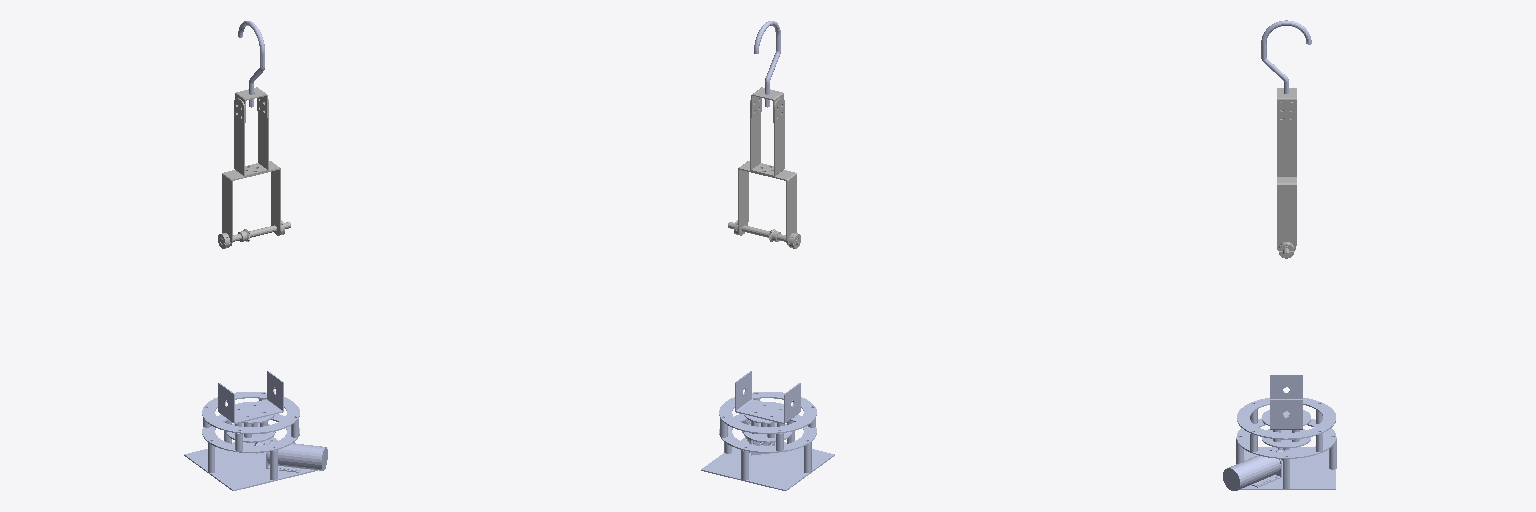
The robot description file, URDF, robot "Arm_Final_Planet_hook":
<?xml version="1.0" encoding="utf-8"?>
<!-- This URDF was automatically created by SolidWorks to URDF Exporter! Originally created by [author] ([email redacted]) 
     Commit Version: 1.6.0-1-g15f4949  Build Version: 1.6.7594.29634
     For more information, please see http://wiki.ros.org/sw_urdf_exporter -->
<robot
  name="Arm_Final_Planet_hook">
  <link
    name="base_link">
    <inertial>
      <origin
        xyz="0.0239862312973585 -0.0239843062662296 0.0273877677030368"
        rpy="0 0 0" />
      <mass
        value="0.209863707536" />
      <inertia
        ixx="0.000201299817757715"
        ixy="2.58045330925731E-05"
        ixz="5.59736469617358E-07"
        iyy="0.000201276668092483"
        iyz="-5.59702706110268E-07"
        izz="0.000375387283780294" />
    </inertial>
    <visual>
      <origin
        xyz="0 0 0"
        rpy="0 0 0" />
      <geometry>
        <mesh
          filename="package://Arm_Final_Planet_hook/meshes/base_link.STL" />
      </geometry>
      <material
        name="">
        <color
          rgba="0.792156862745098 0.819607843137255 0.933333333333333 1" />
      </material>
    </visual>
    <collision>
      <origin
        xyz="0 0 0"
        rpy="0 0 0" />
      <geometry>
        <mesh
          filename="package://Arm_Final_Planet_hook/meshes/base_link.STL" />
      </geometry>
    </collision>
  </link>
  <link
    name="link_1">
    <inertial>
      <origin
        xyz="0.000226515984953664 -0.000226515984954184 0.0808458318834426"
        rpy="0 0 0" />
      <mass
        value="0.0467442653932144" />
      <inertia
        ixx="1.55829074302615E-05"
        ixy="-3.03322735015364E-10"
        ixz="-1.25218898458056E-20"
        iyy="3.45644528570318E-05"
        iyz="-8.9999841994293E-21"
        izz="3.90753255796196E-05" />
    </inertial>
    <visual>
      <origin
        xyz="0 0 0"
        rpy="0 0 0" />
      <geometry>
        <mesh
          filename="package://Arm_Final_Planet_hook/meshes/link_1.STL" />
      </geometry>
      <material
        name="">
        <color
          rgba="0.792156862745098 0.819607843137255 0.933333333333333 1" />
      </material>
    </visual>
    <collision>
      <origin
        xyz="0 0 0"
        rpy="0 0 0" />
      <geometry>
        <mesh
          filename="package://Arm_Final_Planet_hook/meshes/link_1.STL" />
      </geometry>
    </collision>
  </link>
  <joint
    name="joint_1"
    type="revolute">
    <origin
      xyz="0 0 0"
      rpy="0 0 0" />
    <parent
      link="base_link" />
    <child
      link="link_1" />
    <axis
      xyz="0 0 1" />
    <limit
      lower="-9000"
      upper="9000"
      effort="0"
      velocity="0" />
    <dynamics
      damping="0"
      friction="0" />
  </joint>
  <link
    name="link_2">
    <inertial>
      <origin
        xyz="0.127388632386799 -1.84215886989136E-09 0.00236974202190602"
        rpy="0 0 0" />
      <mass
        value="0.292295046771137" />
      <inertia
        ixx="8.03288176612902E-05"
        ixy="-1.85198693888772E-07"
        ixz="8.26838164853407E-10"
        iyy="0.000301533110653255"
        iyz="-1.25470650914005E-12"
        izz="0.000272457706804751" />
    </inertial>
    <visual>
      <origin
        xyz="0 0 0"
        rpy="0 0 0" />
      <geometry>
        <mesh
          filename="package://Arm_Final_Planet_hook/meshes/link_2.STL" />
      </geometry>
      <material
        name="">
        <color
          rgba="0.956862745098039 0.956862745098039 0.956862745098039 1" />
      </material>
    </visual>
    <collision>
      <origin
        xyz="0 0 0"
        rpy="0 0 0" />
      <geometry>
        <mesh
          filename="package://Arm_Final_Planet_hook/meshes/link_2.STL" />
      </geometry>
    </collision>
  </link>
  <joint
    name="joint_2"
    type="revolute">
    <origin
      xyz="0.000728149715460716 -0.000228149715460702 0.110999999999998"
      rpy="0 -1.5707963267949 0" />
    <parent
      link="link_1" />
    <child
      link="link_2" />
    <axis
      xyz="0 0 1" />
      <!-- xyz="0 0 -1" /> -->
      
    <limit
      lower="-9000"
      upper="9000"
      effort="0"
      velocity="0" />
    <dynamics
      damping="0"
      friction="0" />
  </joint>
  <link
    name="link_3">
    <inertial>
      <origin
        xyz="0.0911301106082873 -8.27425586380492E-09 -0.00117041616253912"
        rpy="0 0 0" />
      <mass
        value="0.0581573780278174" />
      <inertia
        ixx="5.01081922599441E-05"
        ixy="-1.03721163038904E-12"
        ixz="-6.05693252426838E-10"
        iyy="9.7527219285676E-05"
        iyz="1.25470651700172E-12"
        izz="5.42745376765828E-05" />
    </inertial>
    <visual>
      <origin
        xyz="0 0 0"
        rpy="0 0 0" />
      <geometry>
        <mesh
          filename="package://Arm_Final_Planet_hook/meshes/link_3.STL" />
      </geometry>
      <material
        name="">
        <color
          rgba="0.752941176470588 0.752941176470588 0.752941176470588 1" />
      </material>
    </visual>
    <collision>
      <origin
        xyz="0 0 0"
        rpy="0 0 0" />
      <geometry>
        <mesh
          filename="package://Arm_Final_Planet_hook/meshes/link_3.STL" />
      </geometry>
    </collision>
  </link>
  <joint
    name="joint_3"
    type="revolute">
    <origin
      xyz="0.275000000000002 0 0"
      rpy="0 0 0" />
    <parent
      link="link_2" />
    <child
      link="link_3" />
    <axis
      xyz="0 0 1" />
    <limit
      lower="-9000"
      upper="9000"
      effort="0"
      velocity="0" />
    <dynamics
      damping="0"
      friction="0" />
  </joint>
  <link
    name="hook_link">
    <inertial>
      <origin
        xyz="3.19189119579733E-16 -0.041529054826686 0.0163213132720076"
        rpy="0 0 0" />
      <mass
        value="0.0112613194545346" />
      <inertia
        ixx="2.52073373689584E-05"
        ixy="1.02160648771415E-20"
        ixz="-7.65190904382715E-21"
        iyy="2.03157934535276E-05"
        iyz="7.12371975169594E-07"
        izz="4.98163447106704E-06" />
    </inertial>
    <visual>
      <origin
        xyz="0 0 0"
        rpy="0 0 0" />
      <geometry>
        <mesh
          filename="package://Arm_Final_Planet_hook/meshes/hook_link.STL" />
      </geometry>
      <material
        name="">
        <color
          rgba="0.792156862745098 0.819607843137255 0.933333333333333 1" />
      </material>
    </visual>
    <collision>
      <origin
        xyz="0 0 0"
        rpy="0 0 0" />
      <geometry>
        <mesh
          filename="package://Arm_Final_Planet_hook/meshes/hook_link.STL" />
      </geometry>
    </collision>
  </link>
  <joint
    name="hook_joint"
    type="fixed">
    <origin
      xyz="0.3195 0.0340000000000181 -0.000500000000001256"
      rpy="0 -1.5707963267949 0" />
    <parent
      link="link_3" />
    <child
      link="hook_link" />
    <axis
      xyz="0 -1 0" />
  </joint>
</robot>

--- Facts derived from the render (not from the file) ---
The picture shows the robot from 3 angles, left to right: view 1: azimuth 30°, elevation 25°; view 2: azimuth 150°, elevation 25°; view 3: azimuth 270°, elevation 25°; orthographic projection.
Robot: Arm_Final_Planet_hook — 5 links, 4 joints (3 revolute, 1 fixed); root link base_link; default pose: every joint at zero.
Links seen in each view (by area): view 1: base_link, link_3, link_1, hook_link; view 2: base_link, link_3, link_1, hook_link; view 3: base_link, link_3, link_1, hook_link.
Link boxes in pixels (x1,y1,x2,y2): base_link: [184, 392, 327, 490]; link_3: [218, 87, 290, 248]; link_1: [218, 371, 283, 442]; hook_link: [238, 21, 264, 107]; base_link: [701, 392, 834, 490]; link_3: [728, 87, 800, 248]; link_1: [735, 371, 800, 442]; hook_link: [754, 21, 780, 107]; base_link: [1223, 398, 1336, 490]; link_3: [1277, 88, 1296, 258]; link_1: [1262, 375, 1310, 447]; hook_link: [1261, 20, 1311, 93].
Bounding box of the posed robot: 0.1715 × 0.1714 × 0.7433 m (x, y, z).
4 mesh visuals loaded from 5 distinct referenced files (4 binary STL); not drawn: 1 (reference not matched to a file when rendering).